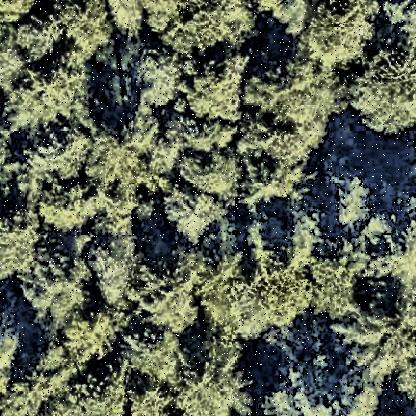tree-top: (243, 57, 349, 167), (80, 124, 168, 212), (147, 235, 222, 333), (176, 336, 257, 416), (141, 1, 261, 54), (352, 198, 416, 290), (199, 259, 267, 345), (350, 42, 416, 128), (351, 298, 416, 380), (20, 247, 88, 325), (86, 230, 150, 310), (181, 53, 254, 123), (1, 349, 78, 414), (304, 3, 378, 69), (7, 69, 77, 137), (48, 361, 132, 416), (174, 140, 250, 200), (54, 1, 126, 61), (12, 137, 92, 191), (115, 43, 183, 106), (256, 258, 318, 326), (160, 182, 228, 244), (56, 302, 120, 362), (257, 377, 351, 416), (125, 329, 189, 385), (307, 251, 361, 317), (1, 203, 45, 283), (162, 115, 248, 153), (243, 161, 303, 212), (14, 2, 64, 62), (41, 186, 95, 234), (326, 170, 370, 226), (257, 1, 311, 39), (127, 374, 173, 416), (110, 2, 144, 42)
